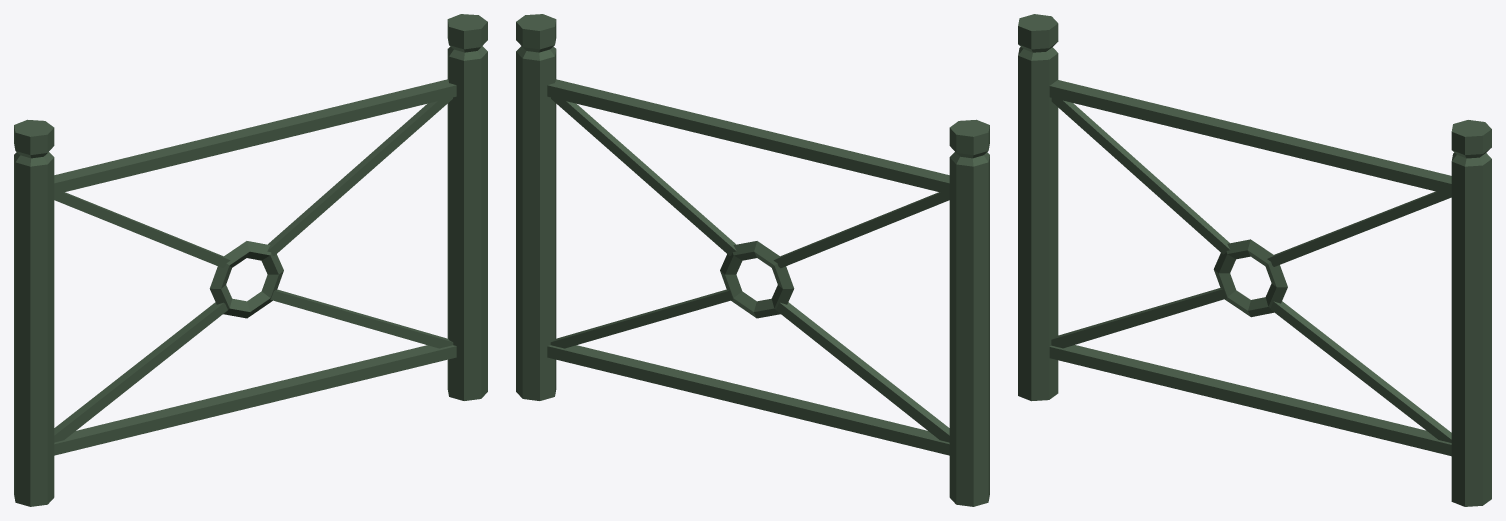
The model's file is dxb-fence.glb.
The picture shows the model from 3 angles, left to right: view 1: azimuth 30°, elevation 25°; view 2: azimuth 150°, elevation 25°; view 3: azimuth 330°, elevation 25°; orthographic projection.
Parts seen in each view (by area): view 1: Fence_01; view 2: Fence_01; view 3: Fence_01.
Boxes of the visible parts, x1=… form: Fence_01: x1=14, y1=14, x2=487, y2=506; Fence_01: x1=516, y1=14, x2=989, y2=506; Fence_01: x1=1018, y1=14, x2=1491, y2=506.
Size of the model in its own units: 1.33 by 1.01 by 0.1006.
1 material, 1 textured.
